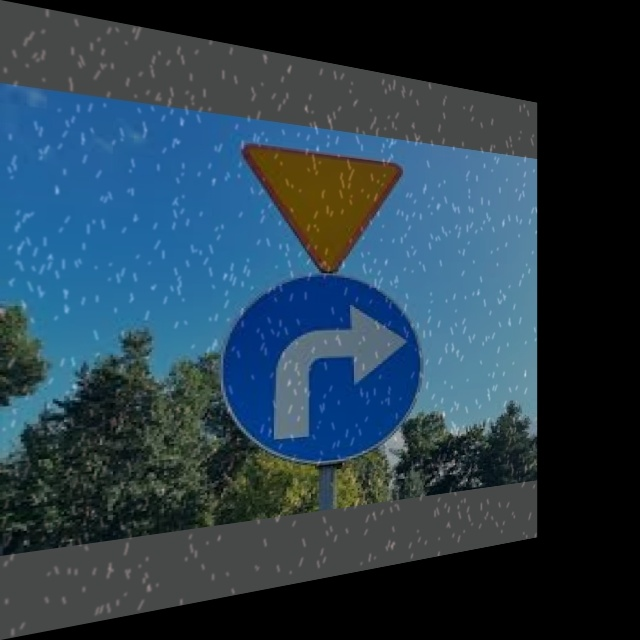Compulsory_Turn_Right_Ahead: (221, 273, 422, 469)
